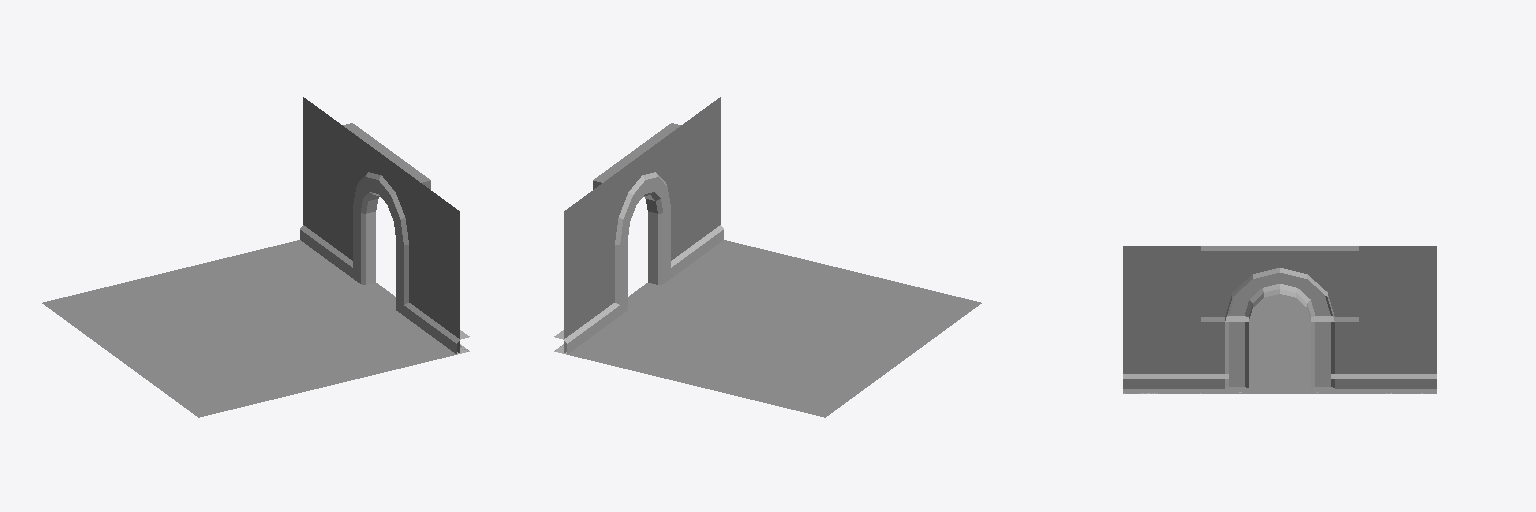
File: bigRoomEntrance.obj
3 views of the same model, side by side, from view 1: azimuth 30°, elevation 25°; view 2: azimuth 150°, elevation 25°; view 3: azimuth 270°, elevation 25° (orthographic).
Visible parts, largest first — view 1: struct_floor_main_half_0, struct_wall_big_door_upper_2, struct_wall_main_half_6, struct_wall_main_half_7, struct_wall_big_door_lower_1, struct_wall_base_half_5, struct_wall_base_half_4; view 2: struct_floor_main_half_0, struct_wall_big_door_upper_2, struct_wall_main_half_7, struct_wall_main_half_6, struct_wall_big_door_lower_1, struct_wall_base_half_4, struct_wall_base_half_5; view 3: struct_wall_main_half_6, struct_wall_main_half_7, struct_wall_big_door_upper_2, struct_floor_main_half_0, struct_wall_big_door_lower_1.
Boxes of the visible parts, <box> form: struct_floor_main_half_0: <box>42,240,468,417</box>; struct_wall_big_door_upper_2: <box>343,123,430,253</box>; struct_wall_main_half_6: <box>303,97,342,252</box>; struct_wall_main_half_7: <box>421,183,459,352</box>; struct_wall_big_door_lower_1: <box>343,197,420,315</box>; struct_wall_base_half_5: <box>418,311,469,354</box>; struct_wall_base_half_4: <box>300,225,342,267</box>; struct_floor_main_half_0: <box>555,240,981,417</box>; struct_wall_big_door_upper_2: <box>593,123,680,253</box>; struct_wall_main_half_7: <box>681,97,720,252</box>; struct_wall_main_half_6: <box>564,183,602,352</box>; struct_wall_big_door_lower_1: <box>603,197,680,315</box>; struct_wall_base_half_4: <box>554,311,605,354</box>; struct_wall_base_half_5: <box>681,225,723,267</box>; struct_wall_main_half_6: <box>1359,246,1436,388</box>; struct_wall_main_half_7: <box>1123,246,1200,388</box>; struct_wall_big_door_upper_2: <box>1201,246,1358,321</box>; struct_floor_main_half_0: <box>1123,294,1436,393</box>; struct_wall_big_door_lower_1: <box>1201,316,1358,393</box>.
Bounding box in the file's own units: 4 × 2 × 4.